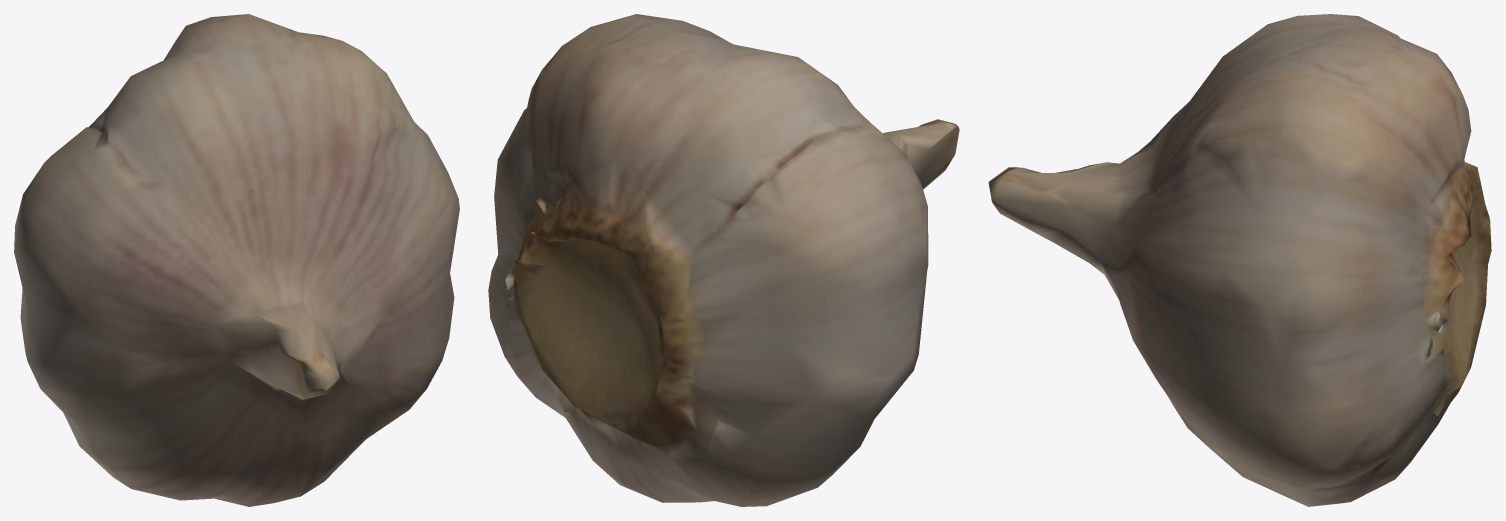
Rendered from CS_Garlic.obj.
3 views of the same model, side by side, from view 1: azimuth 30°, elevation 25°; view 2: azimuth 150°, elevation 25°; view 3: azimuth 270°, elevation 25° (orthographic). The views are drawn at different scales.
Visible parts, largest first — view 1: MDCNR1MBWK01_LOD2(Clone)_Quality_67; view 2: MDCNR1MBWK01_LOD2(Clone)_Quality_67; view 3: MDCNR1MBWK01_LOD2(Clone)_Quality_67.
Boxes of the visible parts, <box> form: MDCNR1MBWK01_LOD2(Clone)_Quality_67: <box>14,14,459,506</box>; MDCNR1MBWK01_LOD2(Clone)_Quality_67: <box>488,14,959,506</box>; MDCNR1MBWK01_LOD2(Clone)_Quality_67: <box>988,14,1491,506</box>.
Size of the model in its own units: 1.12 by 1.19 by 1.2.
